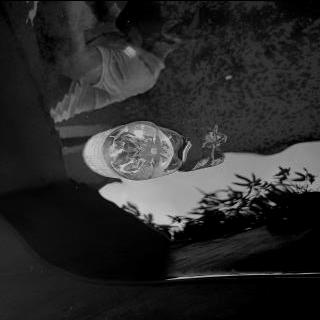bottle: (78, 118, 192, 182)
